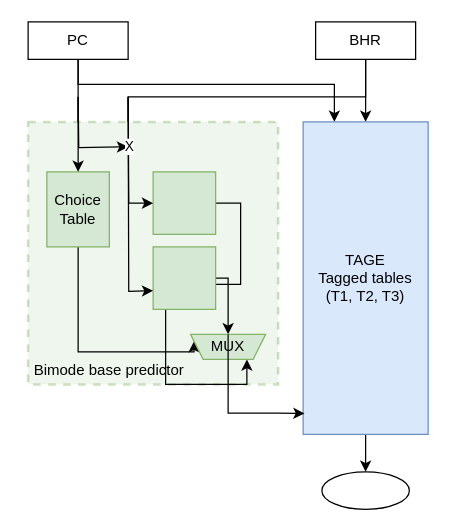
Some shapes in this 450 by 531 pixel diagram are drawn without their labels. Each missing label, with the centre of its shape:
Not Taken PHT: [184,277]
prediction: [365,490]
Taken PHT: [184,202]
